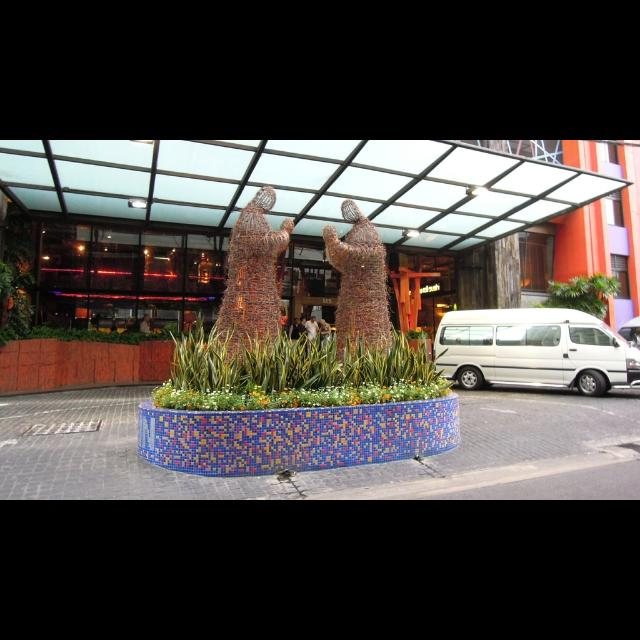Flower: (152, 379, 452, 411), (328, 389, 342, 399)
